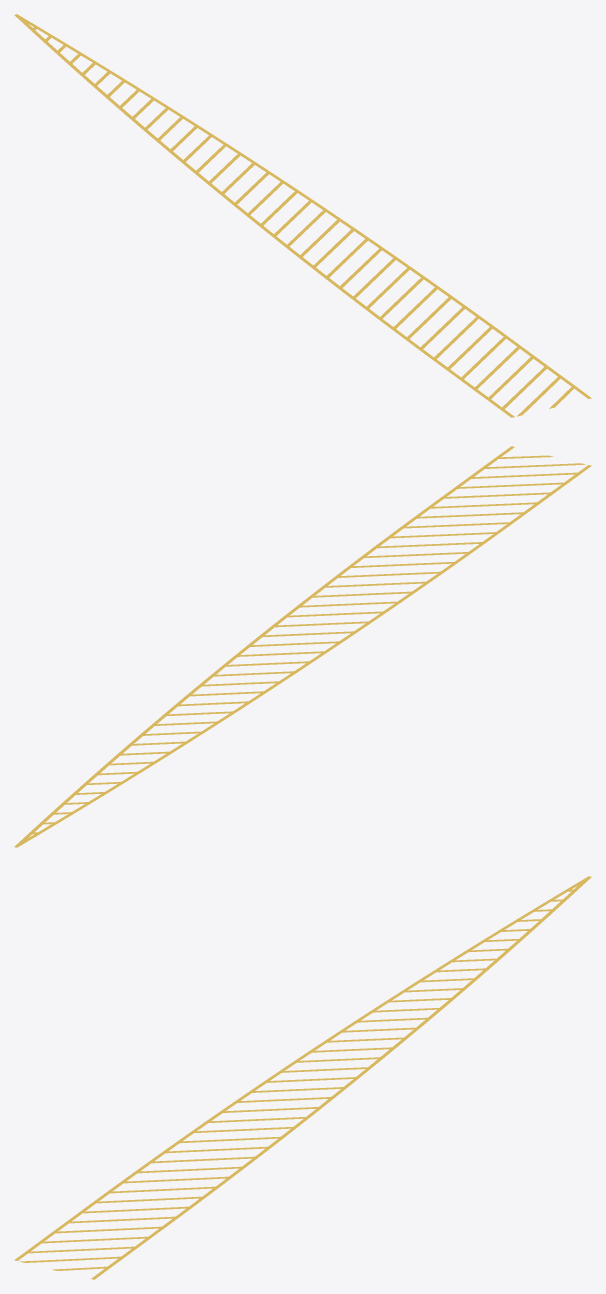
The model's file is RoadLines_End_Long.fbx.
3 renders of one model, top to bottom at view 1: azimuth 30°, elevation 25°; view 2: azimuth 150°, elevation 25°; view 3: azimuth 330°, elevation 25°, orthographic.
Visible parts, largest first — view 1: RoadLines_End_Long; view 2: RoadLines_End_Long; view 3: RoadLines_End_Long.
Boxes of the visible parts, x1,y1,x2,y2 form: RoadLines_End_Long: (14,14,591,417); RoadLines_End_Long: (14,446,591,847); RoadLines_End_Long: (14,876,591,1279).
Size of the model in its own units: 5.23 by 0.0823 by 60.44.
